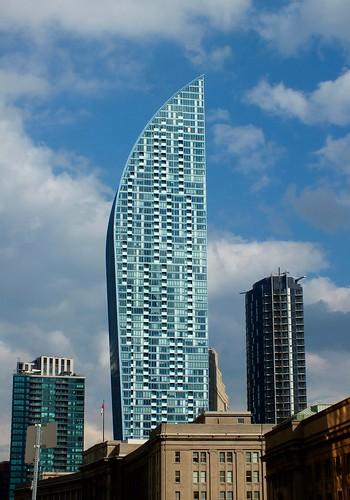building: (100, 67, 215, 451), (6, 350, 88, 496), (238, 272, 310, 430)
